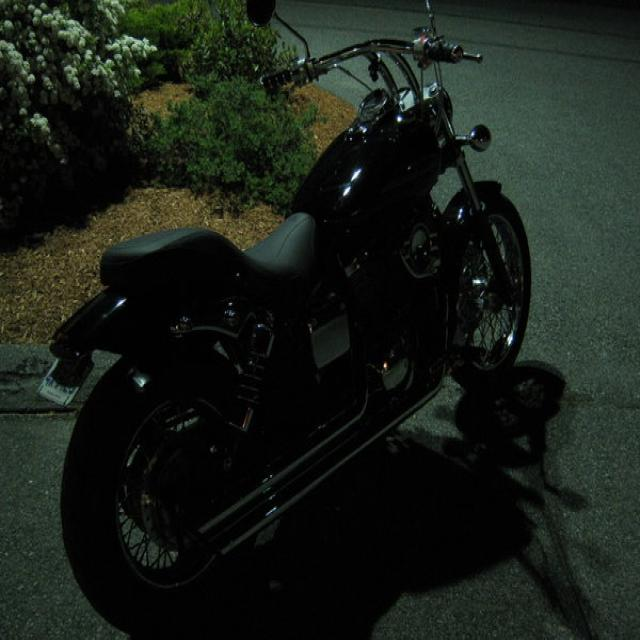Motorbike: (51, 22, 557, 610)
